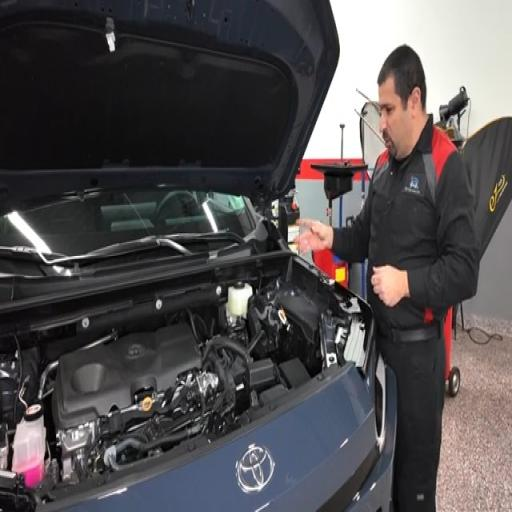bumper: (60, 367, 395, 511), (347, 367, 397, 511)
emblem: (236, 446, 275, 493)
hood: (0, 0, 339, 213)
windshield: (0, 190, 254, 255)
